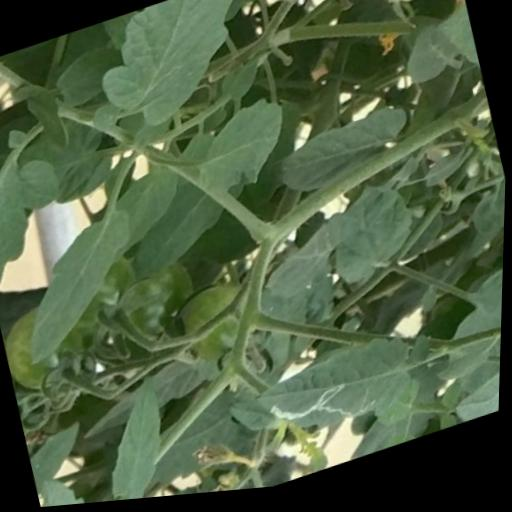Healthy: (2, 203, 160, 369), (87, 0, 264, 143), (263, 104, 419, 209), (318, 175, 427, 297), (88, 371, 185, 505), (186, 92, 300, 206), (253, 215, 367, 313), (445, 347, 503, 434)
Leaf_Miner: (251, 330, 425, 460)
